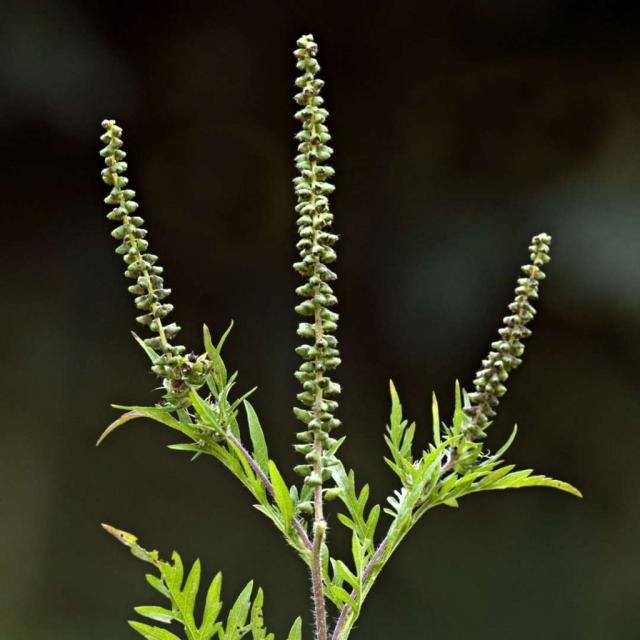ambrosia: (62, 72, 567, 590), (244, 33, 390, 529), (64, 84, 200, 434), (458, 211, 562, 563)
